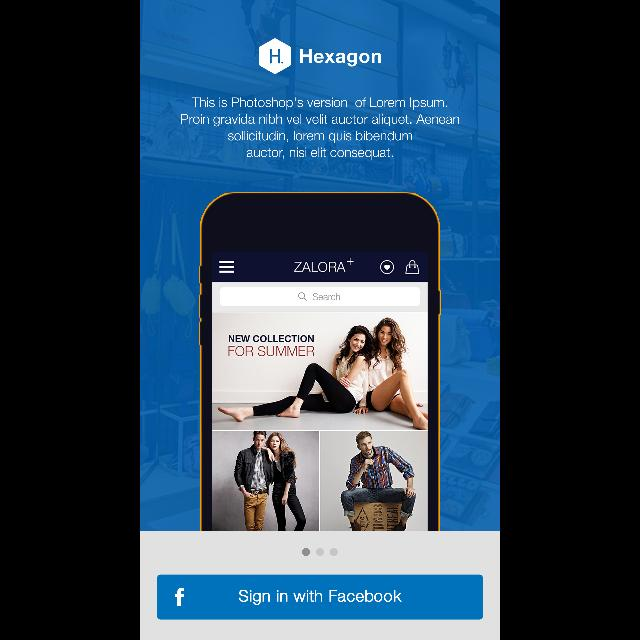image: (200, 193, 440, 531), (259, 38, 291, 74)
pageindicator: (302, 548, 338, 556)
text: (181, 98, 459, 160), (300, 49, 380, 67)
textbutton: (158, 574, 482, 620)
